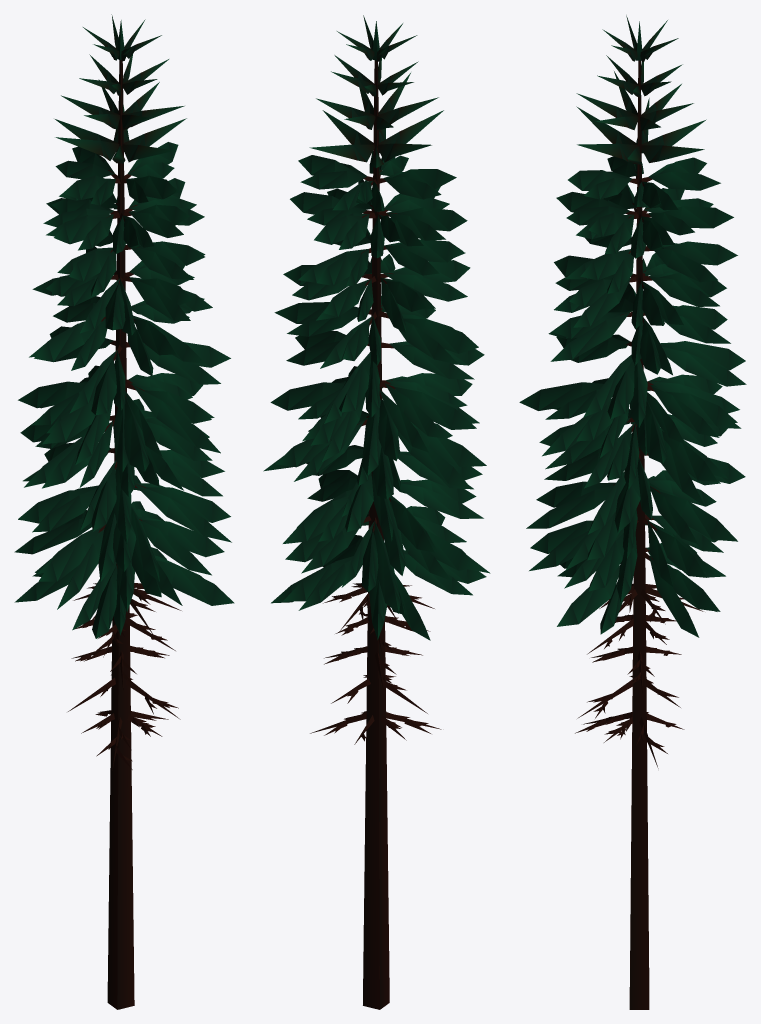
The model's file is fir-lod0.glb.
3 views of the same model, side by side, from view 1: azimuth 30°, elevation 25°; view 2: azimuth 150°, elevation 25°; view 3: azimuth 270°, elevation 25° (orthographic).
Visible parts, largest first — view 1: tree; view 2: tree; view 3: tree.
Part boxes in pixels (x1,y1,x2,y2): tree: (14, 14, 234, 1009); tree: (263, 15, 490, 1009); tree: (519, 15, 746, 1009).
Bounding box in the file's own units: 4.5 × 22 × 4.6.
